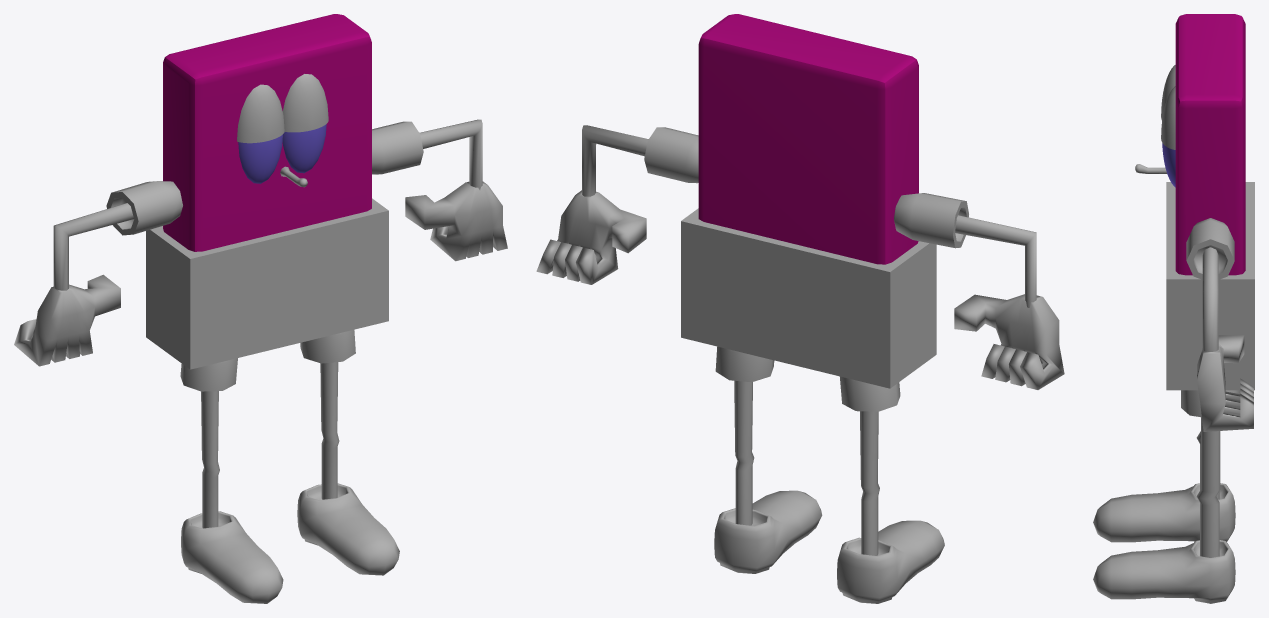
File: spongebob.fbx
3 renders of one model, left to right at view 1: azimuth 30°, elevation 25°; view 2: azimuth 150°, elevation 25°; view 3: azimuth 270°, elevation 25°, orthographic. The views are drawn at different scales.
Visible parts, largest first — view 1: pCube7; view 2: pCube7; view 3: pCube7.
Part boxes in pixels (x1=…): pCube7: x1=14, y1=14, x2=507, y2=603; pCube7: x1=536, y1=14, x2=1064, y2=603; pCube7: x1=1093, y1=14, x2=1254, y2=603.
Size of the model in its own units: 259 by 268 by 76.56.
